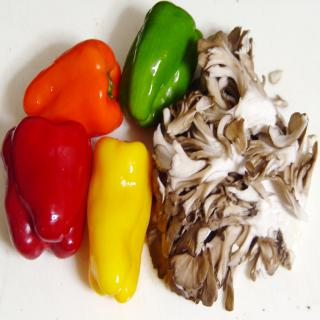Bell pepper: (0, 115, 93, 260), (88, 137, 154, 303), (120, 1, 202, 129), (22, 38, 124, 138)
